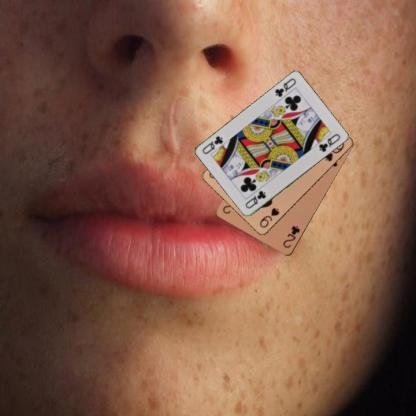2c: (280, 223, 301, 250)
9s: (257, 205, 281, 229)
Qc: (272, 76, 298, 98), (243, 188, 268, 210)
